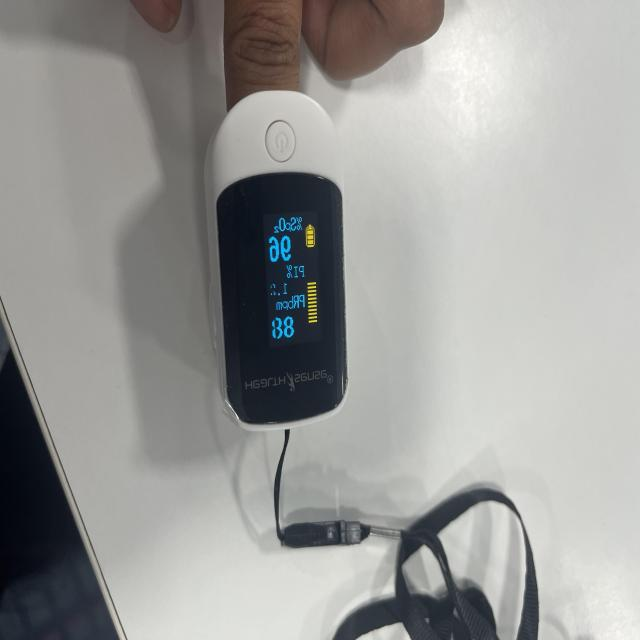spo2: (204, 91, 346, 430)
